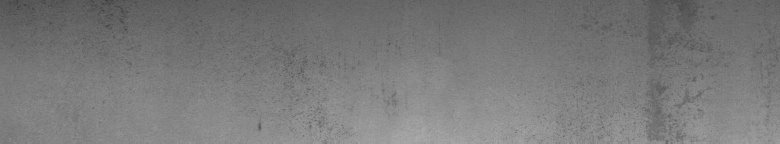ib: (556, 16, 714, 132)
